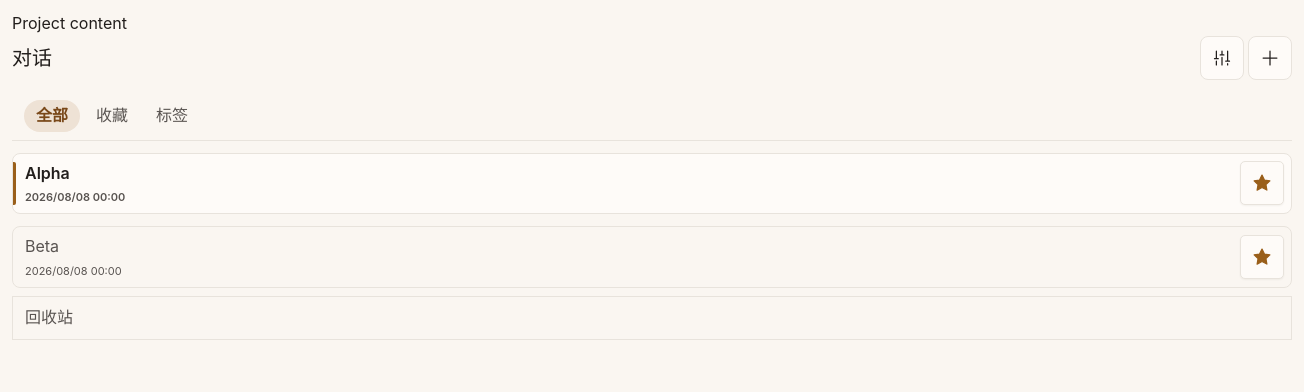
Scenario: thread favorites UI › reinserts a thread into the favorites view when an unfavorite fails
Click the tab "收藏" at (112, 116), box [84,100,140,132]
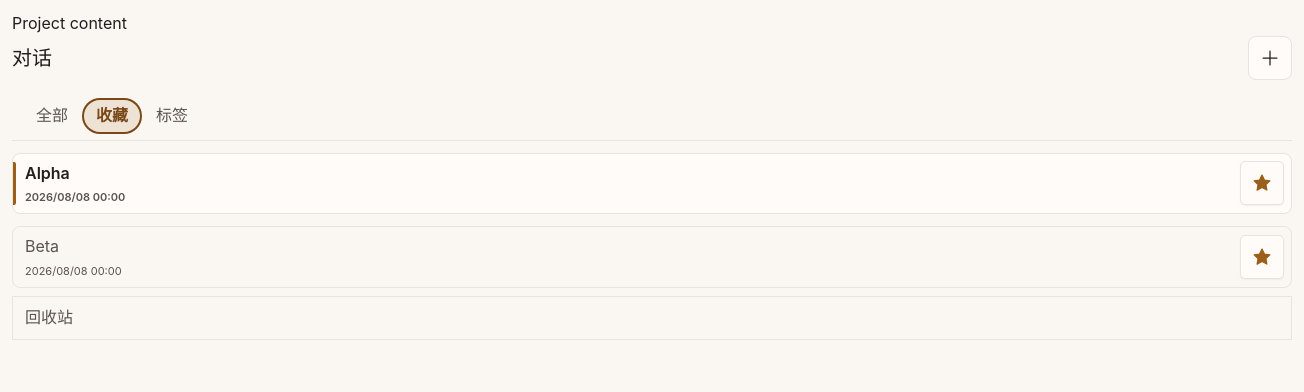
Click the button named "取消收藏 Beta" at (1262, 257), box [1240,235,1284,279]
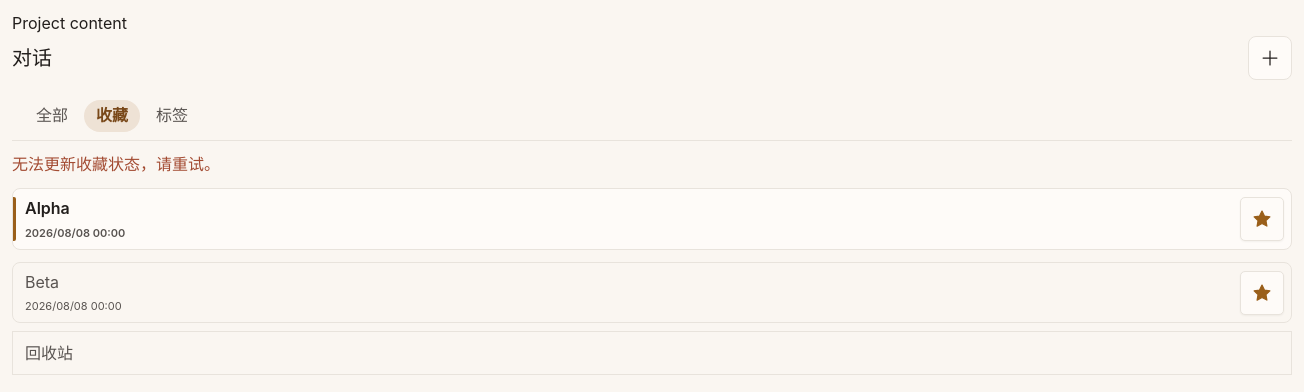
Now the message reads "无法更新收藏状态，请重试。", box [12,154,220,174]
